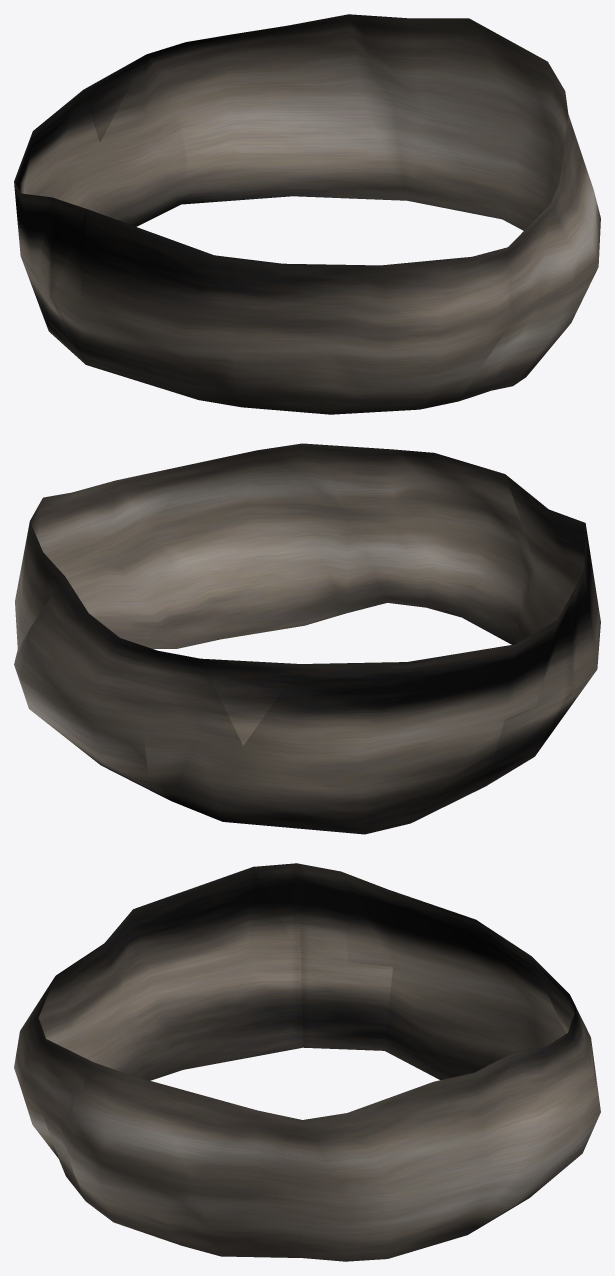
Rendered from Cyclone_Ribbon_0.FBX.
3 views of the same model, one above another, from view 1: azimuth 30°, elevation 25°; view 2: azimuth 150°, elevation 25°; view 3: azimuth 270°, elevation 25° (orthographic). The views are drawn at different scales.
Visible parts, largest first — view 1: Cyclone_00; view 2: Cyclone_00; view 3: Cyclone_00.
Part boxes in pixels (x1,y1,x2,y2): Cyclone_00: (14, 14, 600, 414); Cyclone_00: (14, 443, 600, 834); Cyclone_00: (14, 863, 600, 1261).
Size of the model in its own units: 66.92 by 24.42 by 67.42.
